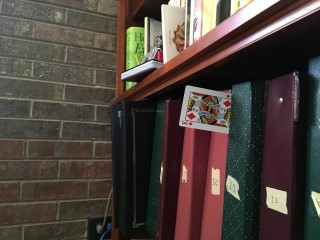KingOfDiamonds: (179, 84, 231, 134)
